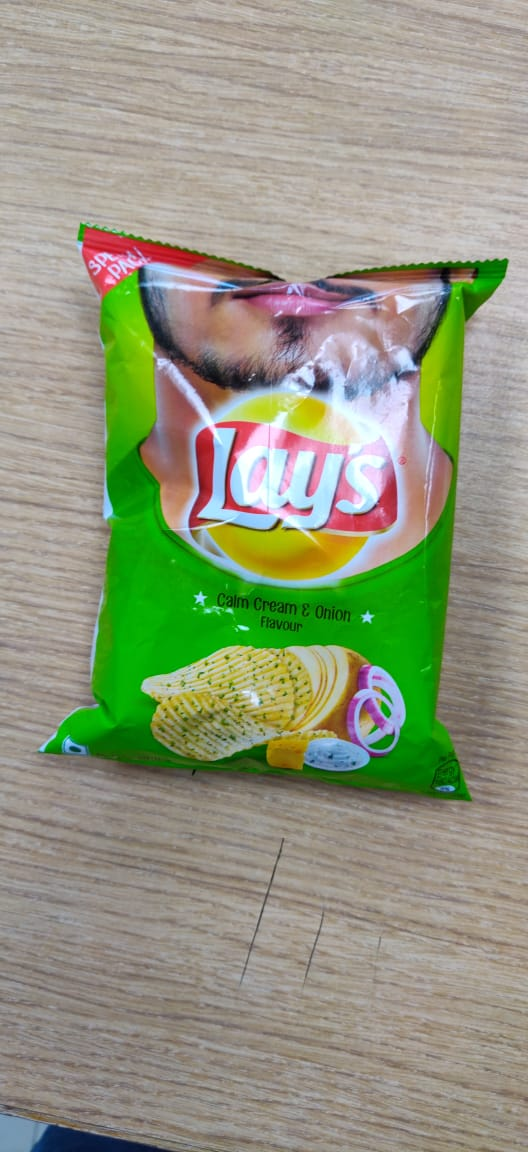lays chips: (33, 202, 519, 832)
